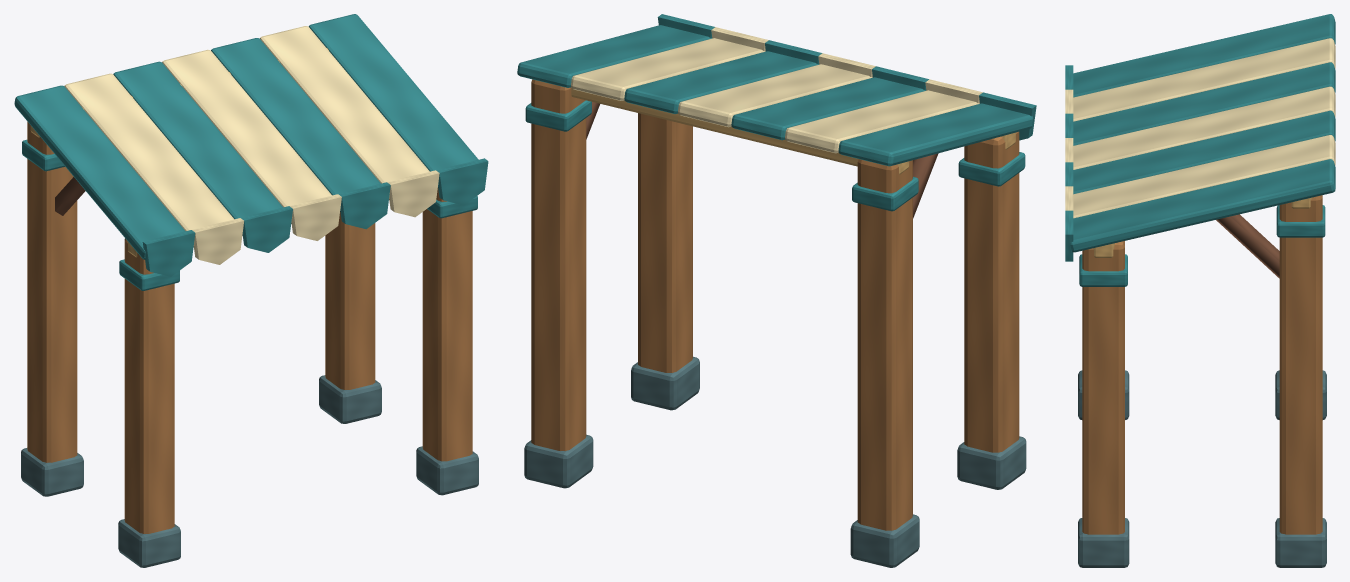
The model's file is camp-awning.glb.
3 renders of one model, left to right at view 1: azimuth 30°, elevation 25°; view 2: azimuth 150°, elevation 25°; view 3: azimuth 270°, elevation 25°, orthographic. The views are drawn at different scales.
Visible parts, largest first — view 1: camp-awning-mesh; view 2: camp-awning-mesh; view 3: camp-awning-mesh.
Part boxes in pixels (x1,y1,x2,y2): camp-awning-mesh: [14, 14, 488, 567]; camp-awning-mesh: [517, 14, 1036, 567]; camp-awning-mesh: [1065, 14, 1335, 567].
Size of the model in its own units: 2.81 by 3 by 1.89.
1 material, 1 textured.
